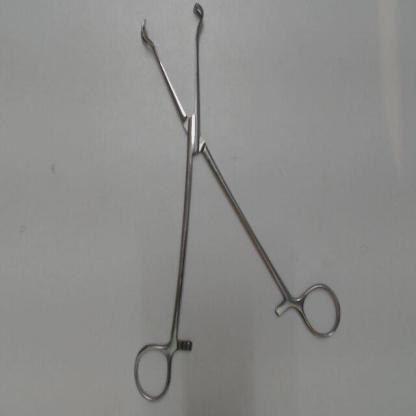8 Babcock Tissue Forceps: (127, 3, 352, 410)
